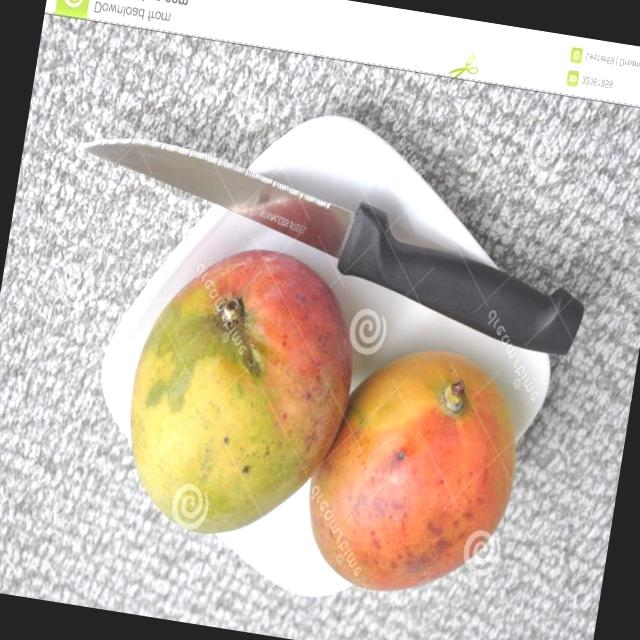Mango: (111, 233, 370, 555), (295, 333, 533, 611)
